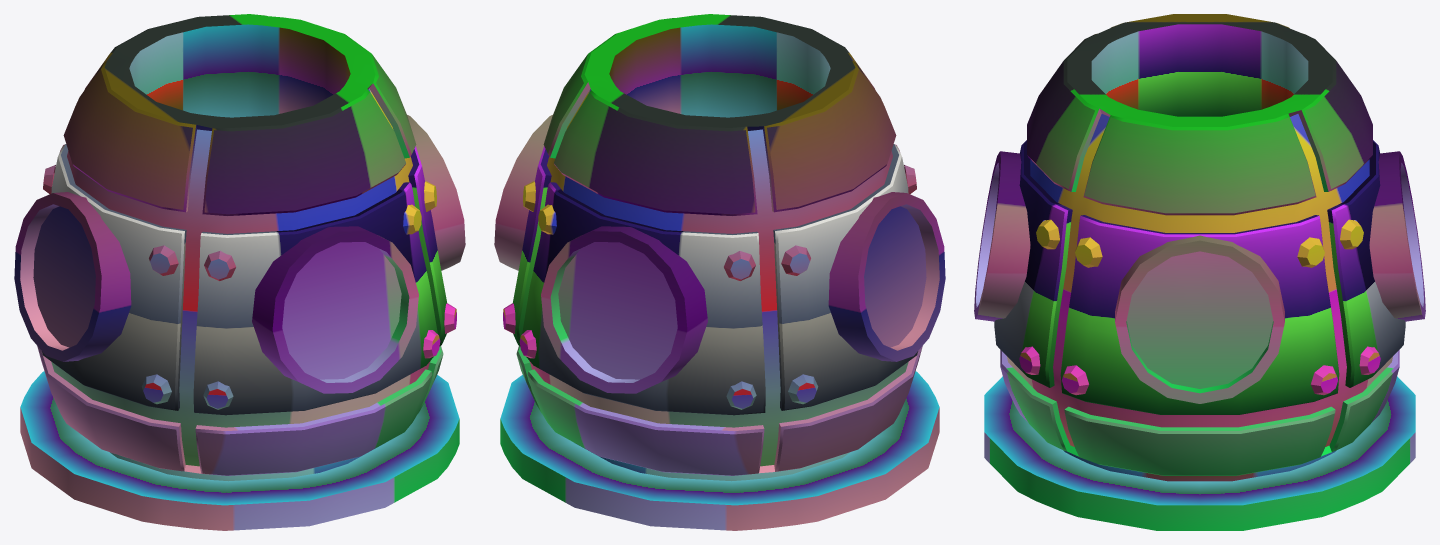
The model's file is Flora Sample Container_3.fbx.
3 views of the same model, side by side, from view 1: azimuth 30°, elevation 25°; view 2: azimuth 150°, elevation 25°; view 3: azimuth 270°, elevation 25° (orthographic).
Visible parts, largest first — view 1: C3; view 2: C3; view 3: C3.
Part boxes in pixels (x1,y1,x2,y2): C3: (14, 14, 465, 530); C3: (494, 14, 945, 530); C3: (974, 14, 1425, 530).
Size of the model in its own units: 281 by 254 by 283.
1 material, 1 textured.
